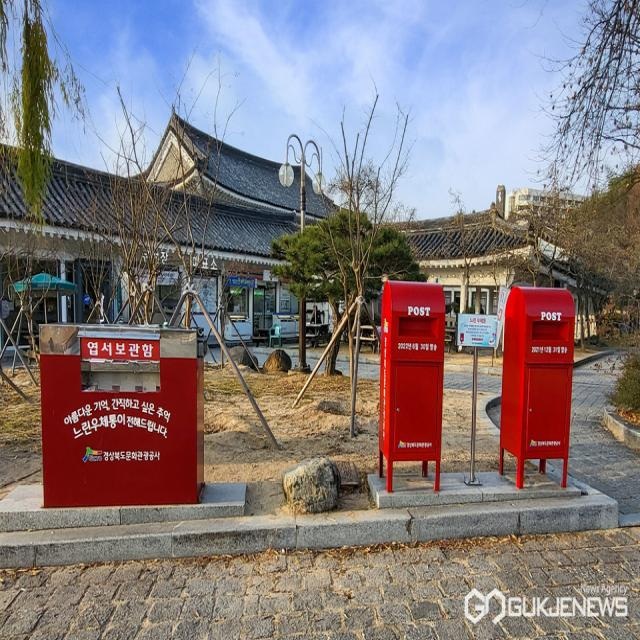Post Box: (498, 281, 577, 488), (379, 275, 446, 496)
